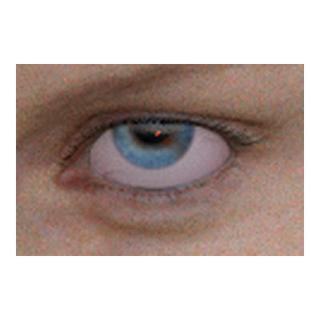pupil: (135, 110, 169, 143)
